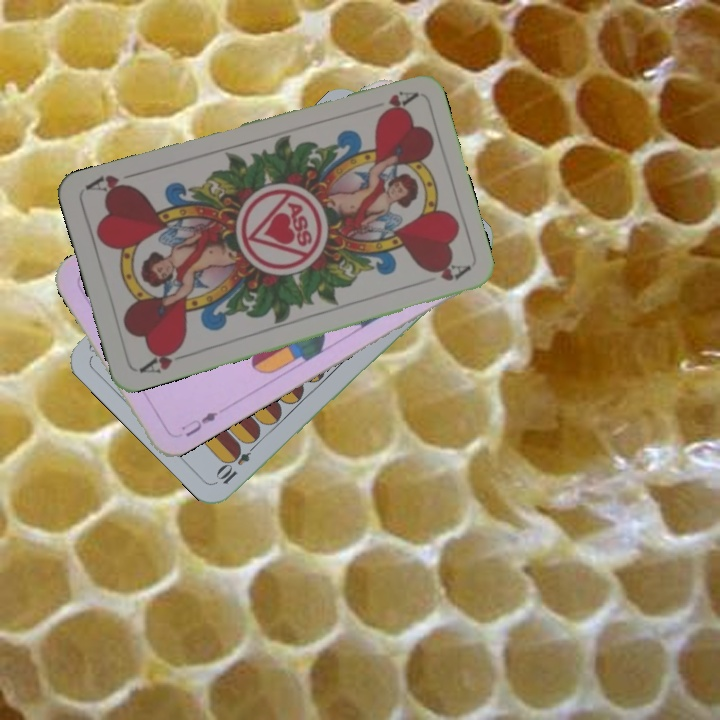E10: (214, 437, 261, 487)
EU: (177, 407, 221, 440)
HA: (134, 341, 192, 376), (374, 87, 419, 118)
